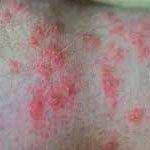Ants: (32, 40, 69, 81), (26, 88, 47, 128), (101, 65, 119, 111), (101, 41, 127, 68), (43, 89, 66, 111), (32, 21, 63, 36), (129, 31, 149, 54), (79, 33, 99, 49), (26, 30, 40, 50), (125, 108, 143, 123), (59, 79, 72, 96), (7, 58, 21, 72), (110, 22, 123, 35), (102, 140, 117, 149), (106, 10, 114, 19)
